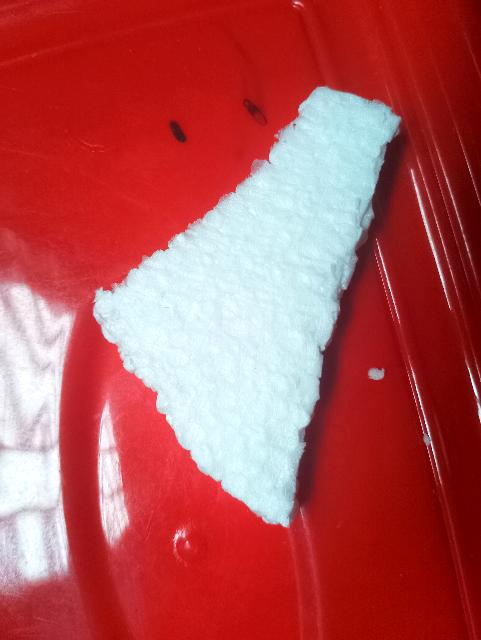cocksheet: (55, 40, 408, 524)
